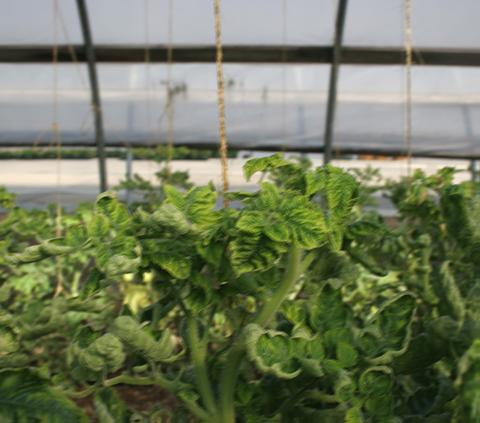Tomato leaf yellow virus: (161, 176, 227, 252), (357, 290, 421, 361), (234, 324, 313, 379), (253, 196, 329, 250), (140, 244, 199, 280)
